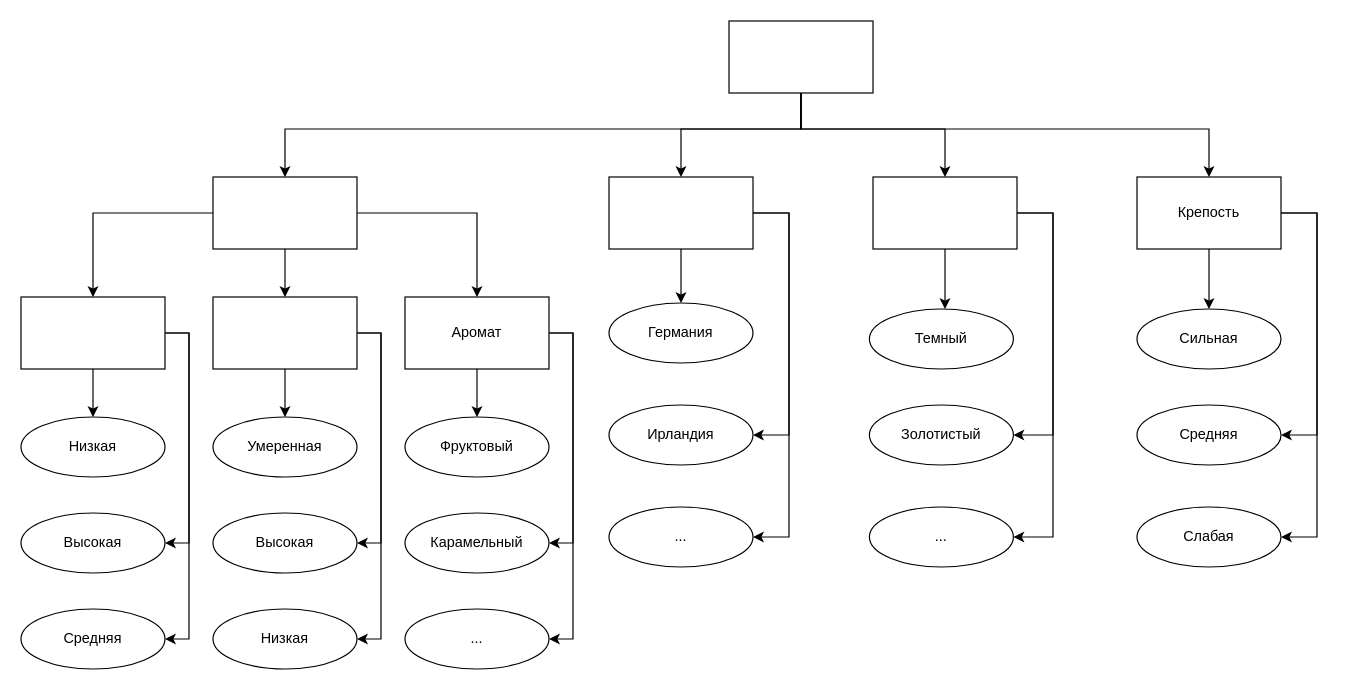
This 1348x690 diagram has some shape labels left out. Here are the shapes that lost their labels. From the top down, the centre of each, then its label:
At [800,56]: "Пиво".
At [284,212]: "Вкус".
At [680,212]: "Страна".
At [944,212]: "Цвет".
At [92,332]: "Горечь".
At [284,332]: "Сладость".
